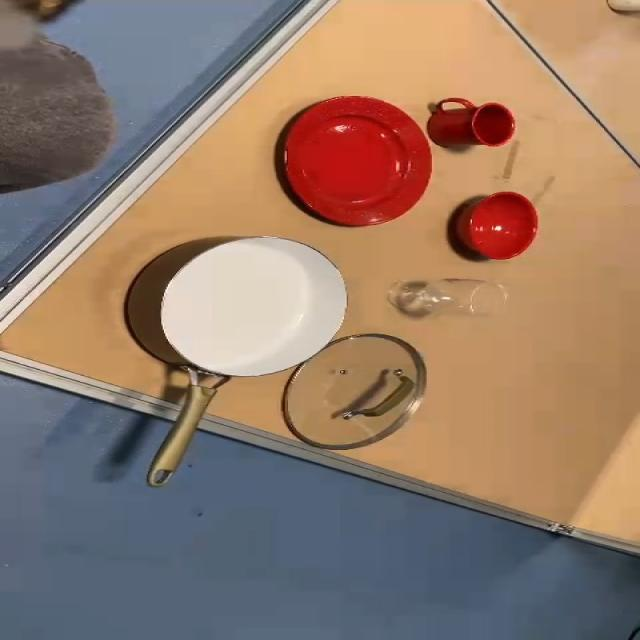Bowl: (455, 189, 542, 260)
Glass: (392, 278, 513, 326)
Plate: (287, 96, 440, 232)
cup: (422, 96, 516, 152)
pot: (120, 233, 347, 482)
